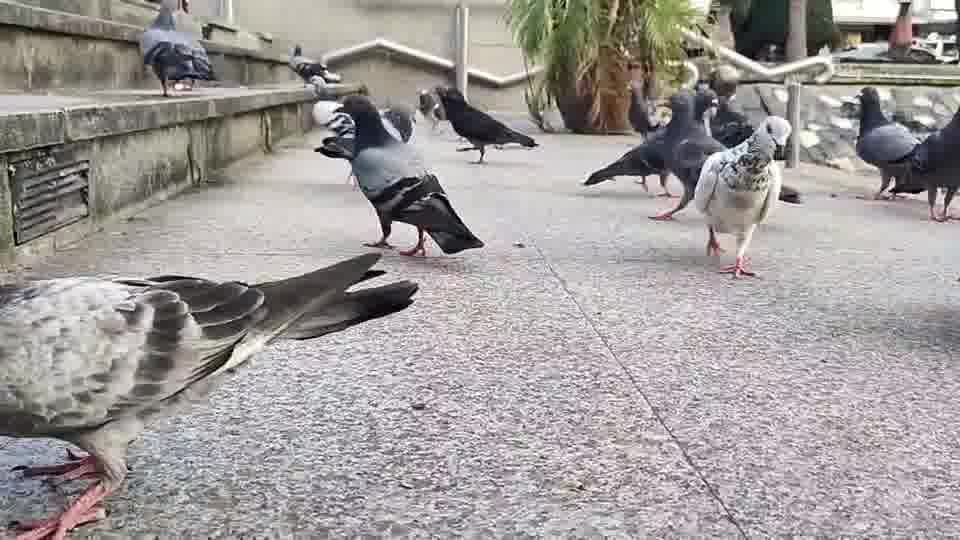Pigeon: (0, 249, 419, 538), (580, 74, 799, 279), (312, 93, 484, 257), (693, 114, 792, 278), (581, 77, 673, 196), (417, 84, 539, 164), (840, 85, 924, 200), (885, 105, 959, 222), (141, 0, 220, 96), (287, 44, 342, 88)
